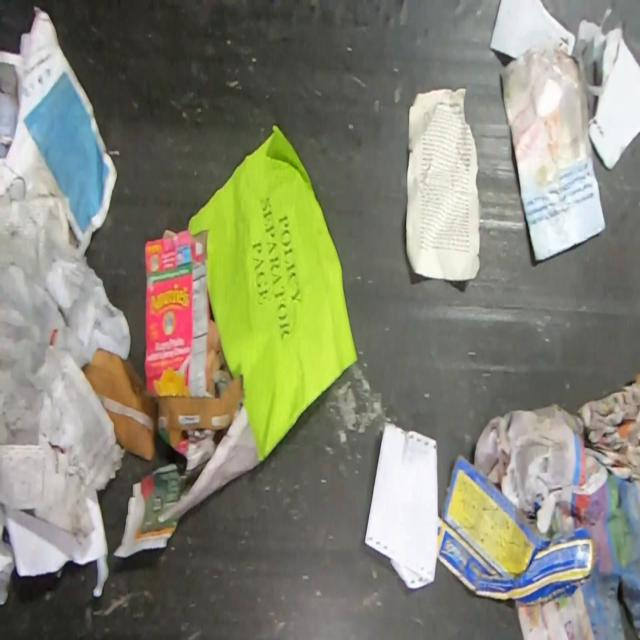cardboard: (436, 451, 597, 608), (82, 347, 244, 461), (142, 228, 214, 399)
